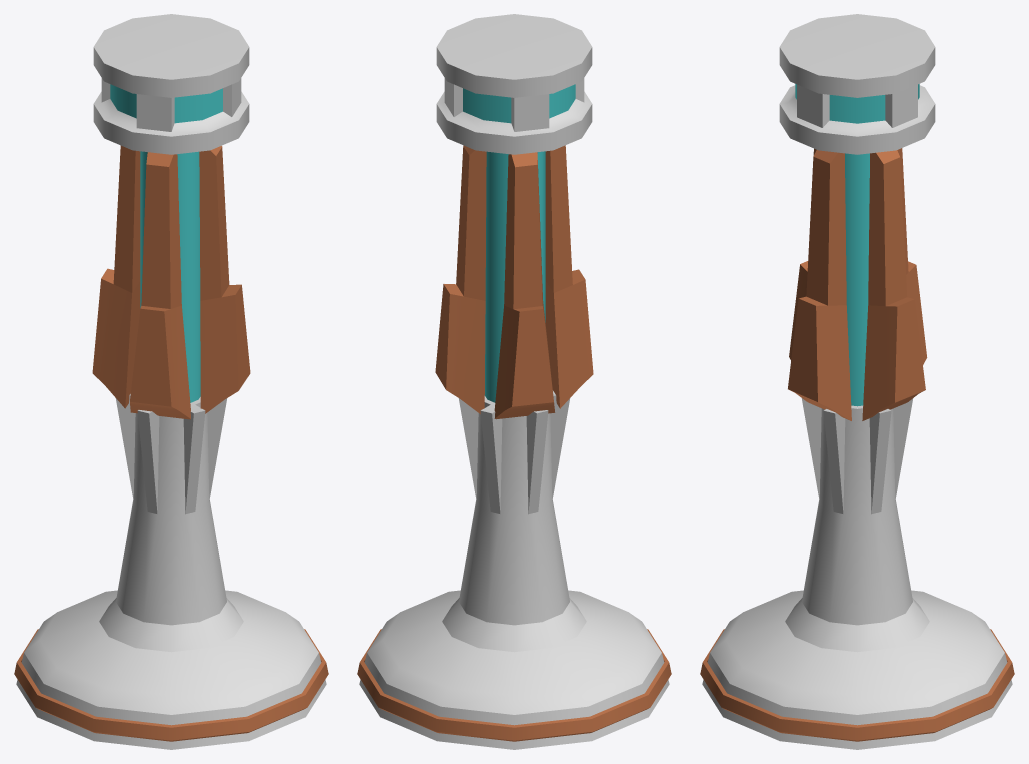
File: Stuff.fbx
3 views of the same model, side by side, from view 1: azimuth 30°, elevation 25°; view 2: azimuth 150°, elevation 25°; view 3: azimuth 270°, elevation 25° (orthographic).
Visible parts, largest first — view 1: polySurface15; view 2: polySurface15; view 3: polySurface15.
Part boxes in pixels (x1,y1,x2,y2): polySurface15: (14,14,328,749); polySurface15: (357,14,671,749); polySurface15: (700,14,1014,749).
Size of the model in its own units: 81.06 by 81.06 by 182.
